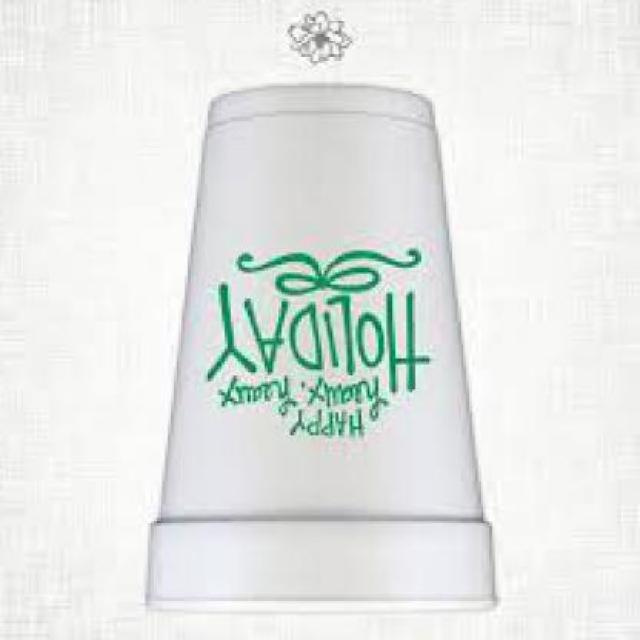PAPER: (145, 91, 504, 617)
